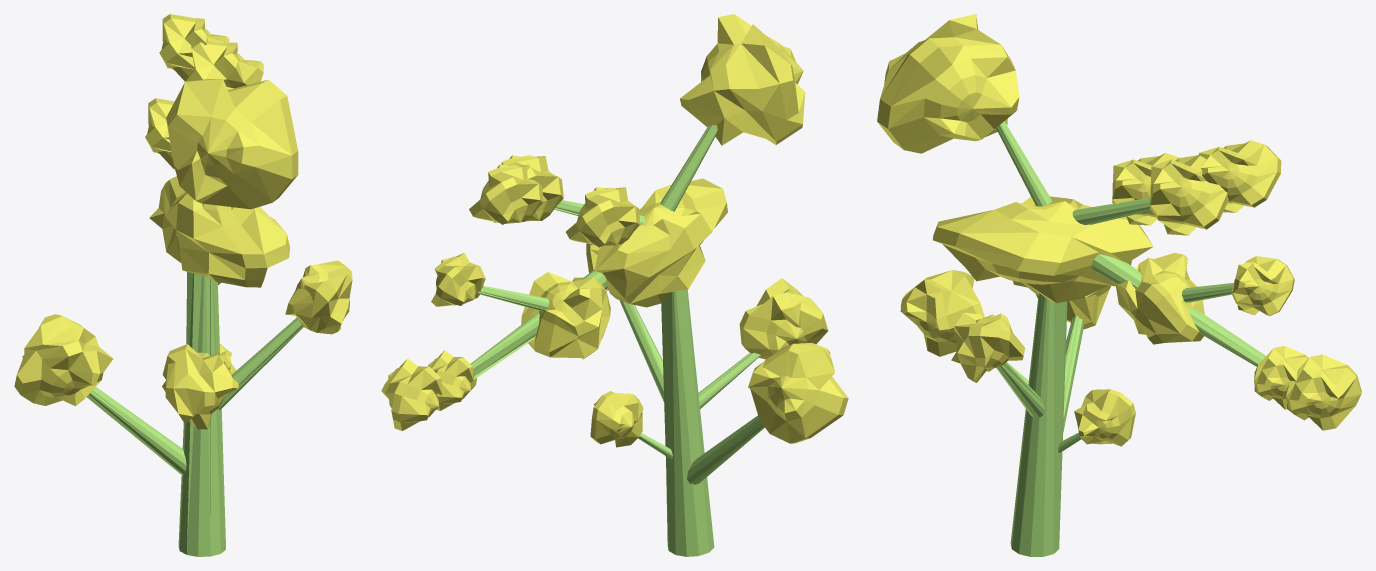
File: example_flower.glb
3 views of the same model, side by side, from view 1: azimuth 30°, elevation 25°; view 2: azimuth 150°, elevation 25°; view 3: azimuth 270°, elevation 25° (orthographic). The views are drawn at different scales.
Parts seen in each view (by area): view 1: mesh356998381, mesh186134830, mesh575936574, mesh1154192921, mesh976715466, mesh166453363, mesh1255666884, mesh1255666884.1, mesh188588682, mesh78650268, mesh1255666884.2, mesh1466796910; view 2: mesh356998381, mesh186134830, mesh575936574, mesh1154192921, mesh1466796910, mesh976715466, mesh1255666884.2, mesh1255666884.1, mesh542459877.1, mesh487903340, mesh145065546, mesh542459877 (+7 smaller); view 3: mesh186134830, mesh356998381, mesh575936574, mesh1466796910, mesh1255666884, mesh976715466, mesh542459877.1, mesh1255666884.1, mesh166453363, mesh145065546, mesh487903340, mesh45167627 (+8 smaller).
Part boxes in pixels (x1,y1,x2,y2): mesh356998381: [166, 79, 298, 209]; mesh186134830: [164, 176, 289, 287]; mesh575936574: [178, 272, 225, 556]; mesh1154192921: [14, 314, 113, 406]; mesh976715466: [162, 344, 238, 429]; mesh166453363: [285, 260, 352, 334]; mesh1255666884: [185, 41, 263, 89]; mesh1255666884.1: [159, 14, 229, 81]; mesh188588682: [87, 387, 186, 475]; mesh78650268: [218, 317, 303, 409]; mesh1255666884.2: [145, 98, 174, 169]; mesh1466796910: [149, 180, 181, 262]; mesh356998381: [680, 14, 805, 145]; mesh186134830: [594, 178, 727, 307]; mesh575936574: [661, 289, 714, 556]; mesh1154192921: [748, 343, 848, 443]; mesh1466796910: [521, 272, 610, 359]; mesh976715466: [739, 278, 828, 359]; mesh1255666884.2: [566, 187, 639, 247]; mesh1255666884.1: [469, 164, 543, 224]; mesh542459877.1: [381, 358, 442, 430]; mesh487903340: [590, 391, 643, 447]; mesh145065546: [431, 253, 485, 306]; mesh542459877: [428, 350, 476, 410]; mesh186134830: [932, 196, 1153, 302]; mesh356998381: [877, 14, 1019, 153]; mesh575936574: [1010, 293, 1067, 556]; mesh1466796910: [1115, 253, 1204, 344]; mesh1255666884: [1150, 154, 1228, 235]; mesh976715466: [900, 270, 984, 356]; mesh542459877.1: [1286, 354, 1361, 430]; mesh1255666884.1: [1199, 140, 1281, 212]; mesh166453363: [951, 312, 1024, 382]; mesh145065546: [1231, 256, 1294, 316]; mesh487903340: [1074, 389, 1135, 446]; mesh45167627: [1091, 254, 1265, 366].
Size of the model in its own units: 0.9876 by 1.39 by 1.18.
